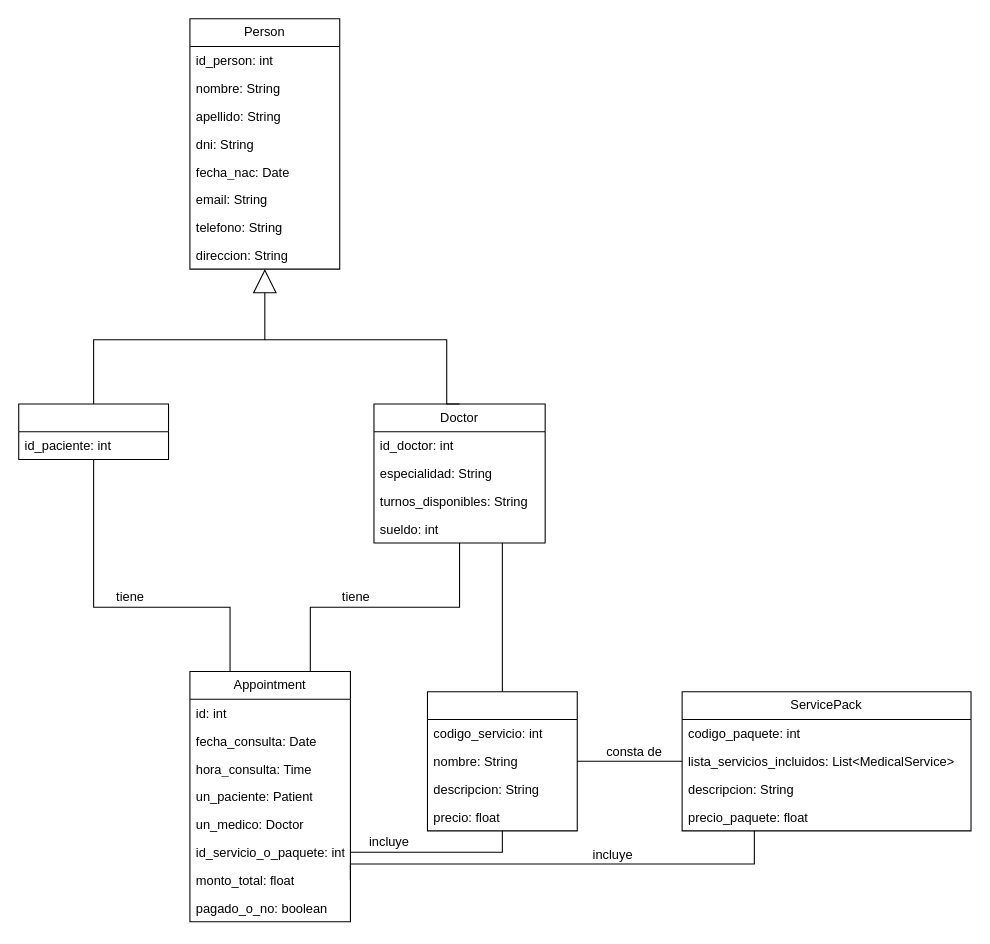
Image size: 990x944. Some labels were removed from this diagram. Each missing label, with the box of its shape:
MedicalService: (426, 691, 577, 831)
Patient: (18, 403, 169, 460)
